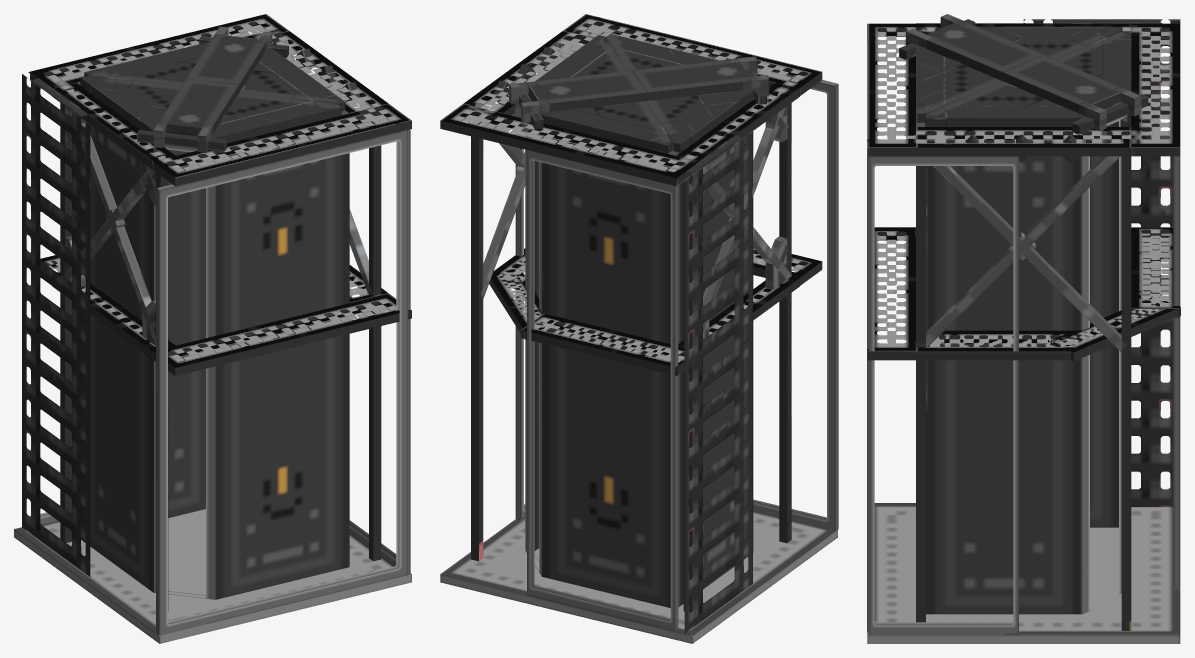
The model's file is missile_launcher_1.obj.
The picture shows the model from 3 angles, left to right: view 1: azimuth 30°, elevation 25°; view 2: azimuth 150°, elevation 25°; view 3: azimuth 270°, elevation 25°; orthographic projection. The views are drawn at different scales.
Parts seen in each view (by area): view 1: cube, cha1; view 2: cube, cha1; view 3: cube, cha1.
Boxes of the visible parts, left/top/right/bottom form: cube: left=14, top=14, right=411, bottom=643; cha1: left=275, top=38, right=381, bottom=297; cube: left=440, top=14, right=838, bottom=643; cha1: left=474, top=44, right=573, bottom=297; cube: left=867, top=14, right=1180, bottom=643; cha1: left=915, top=141, right=1126, bottom=351.
Bounding box in the file's own units: 2.02 × 3.62 × 2.
